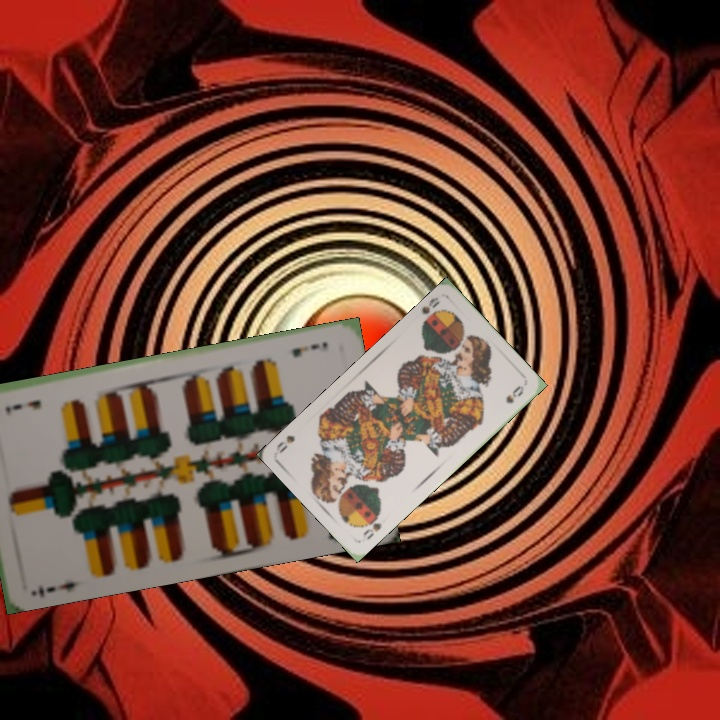E7: (34, 577, 86, 600), (287, 337, 330, 360)
SO: (417, 293, 442, 330), (359, 509, 384, 542)
